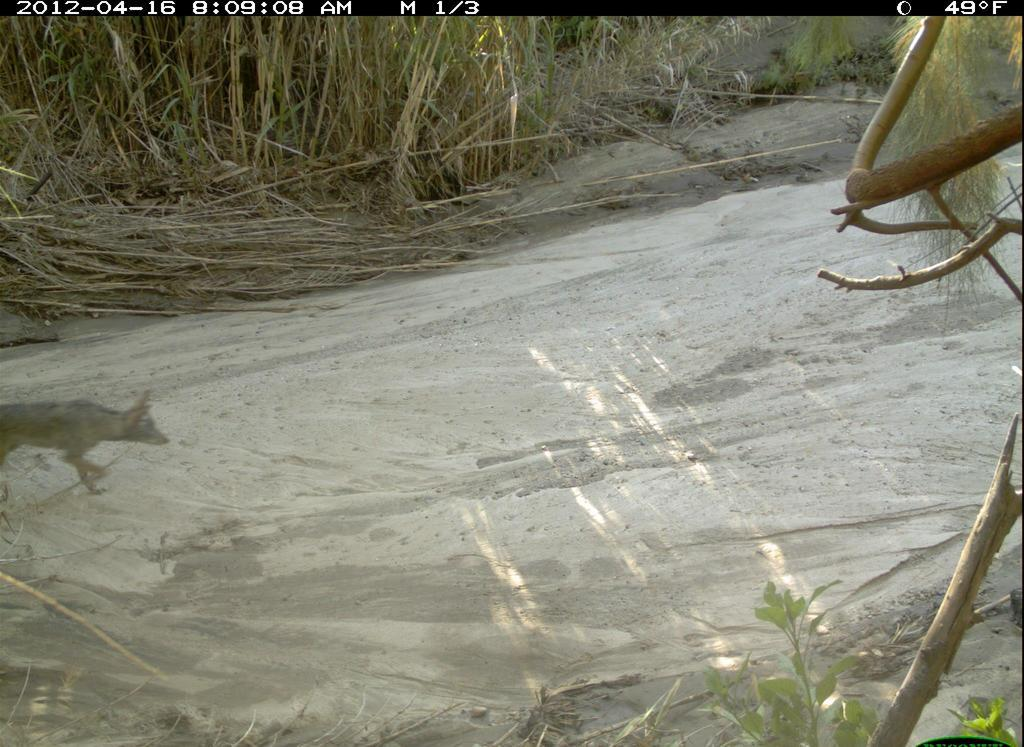coyote: (1, 383, 184, 504)
